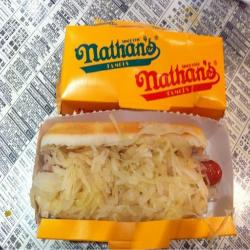hotdog: (33, 115, 228, 223)
